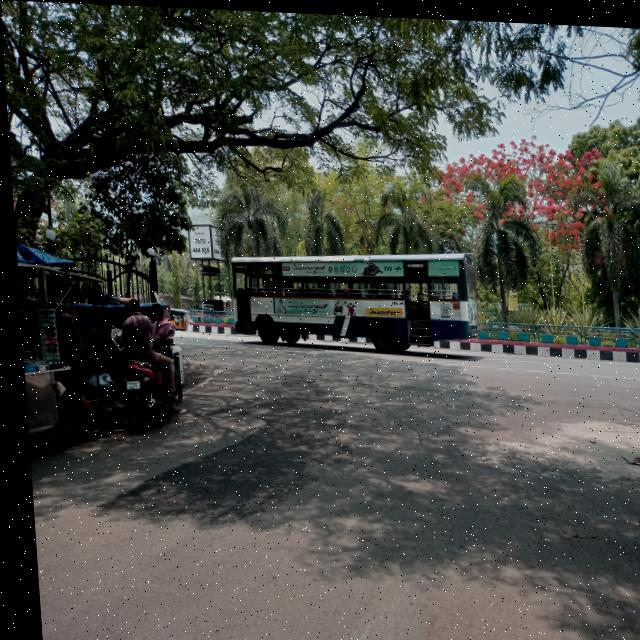bike: (118, 333, 186, 427)
bus: (221, 240, 483, 355)
